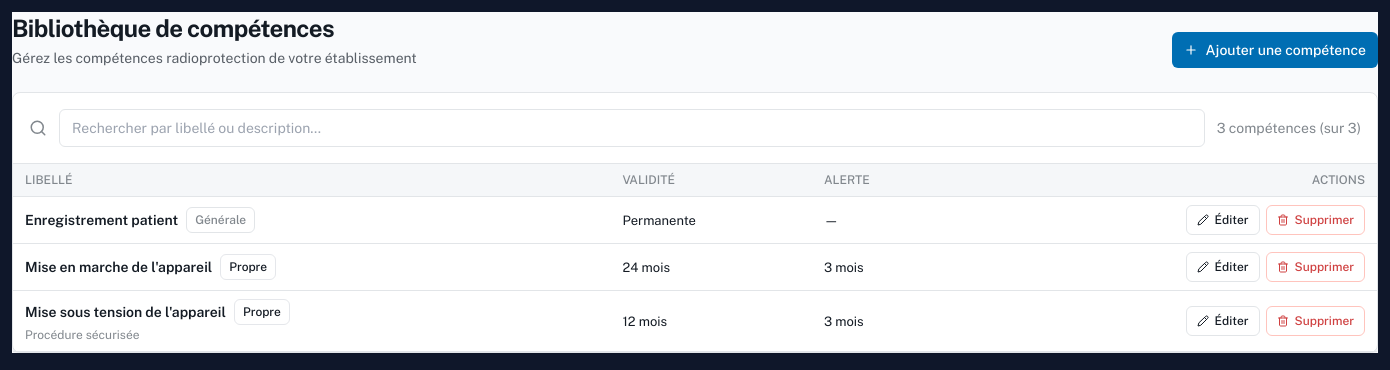
Test: CompetencesList - Recherche › l'effacement de la recherche affiche toutes les compétences
The image size is (1390, 370).
Expected: the text "Mise sous tension de l'appareil" is shown, [25,302,226,322]
Type "mise" into the field with placeholder "Rechercher par libellé ou description…" at (632, 128), box [59,109,1205,147]
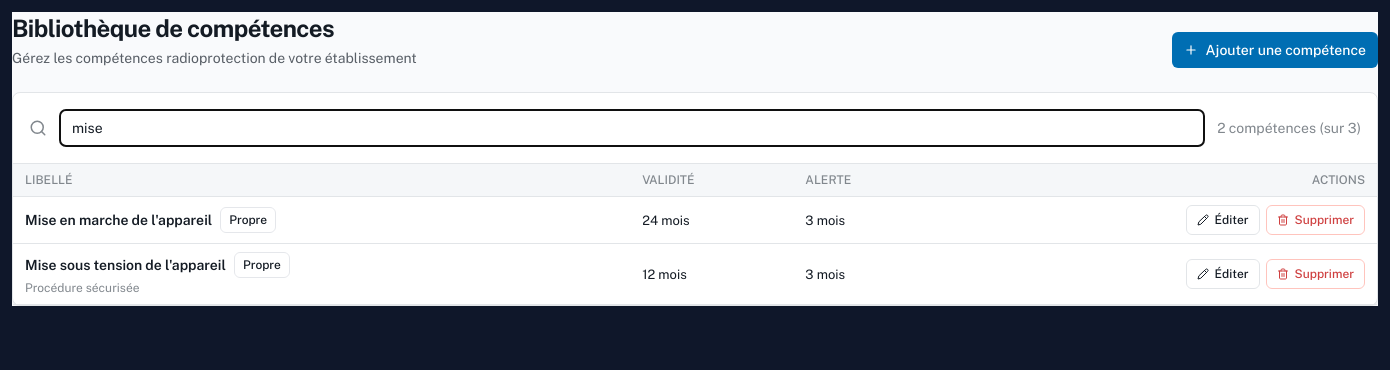
Result: the text "Enregistrement patient" is gone
Clear the field at (632, 128), box [59,109,1205,147]
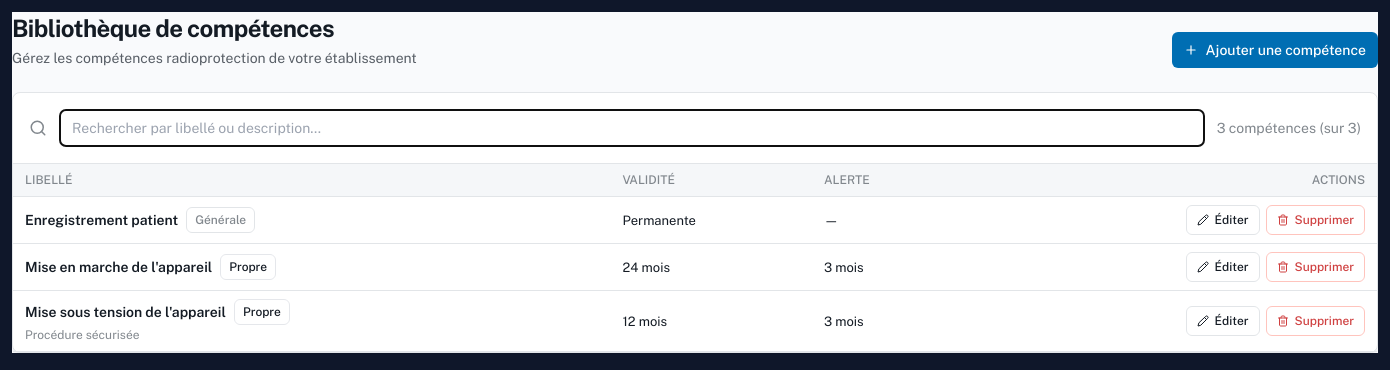
Expected: the text "Mise sous tension de l'appareil" is shown, [25,302,226,322]
Result: the text "Enregistrement patient" is shown at [25,210,178,230]
